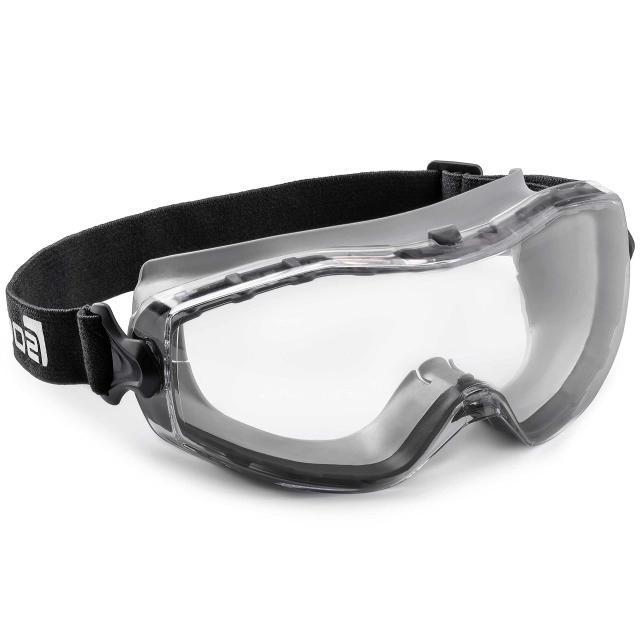Goggles: (27, 115, 389, 587)
